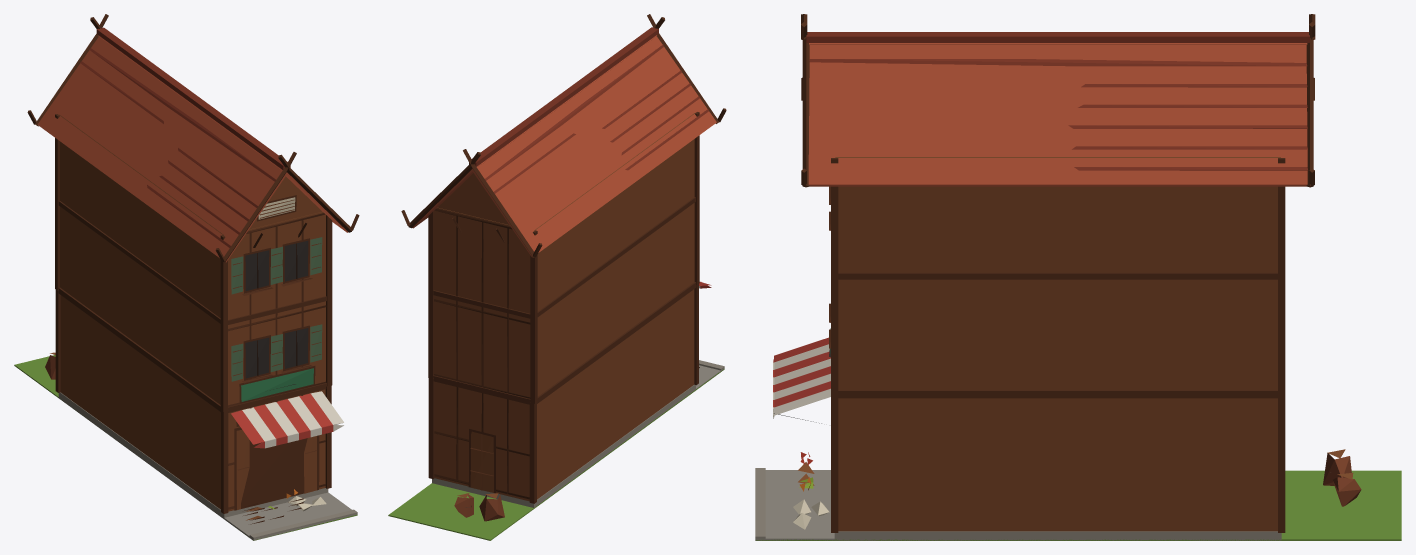
The model's file is bay2_mid2.glb.
3 renders of one model, left to right at view 1: azimuth 30°, elevation 25°; view 2: azimuth 150°, elevation 25°; view 3: azimuth 270°, elevation 25°, orthographic. The views are drawn at different scales.
Visible parts, largest first — view 1: body, windows; view 2: body; view 3: body.
Part boxes in pixels (box(x1,y1,x2,y2)): body: box(14, 14, 359, 540); windows: box(245, 240, 308, 378); body: box(388, 14, 726, 540); body: box(755, 14, 1401, 540).
Bounding box in the file's own units: 5.52 × 13.28 × 15.9.
